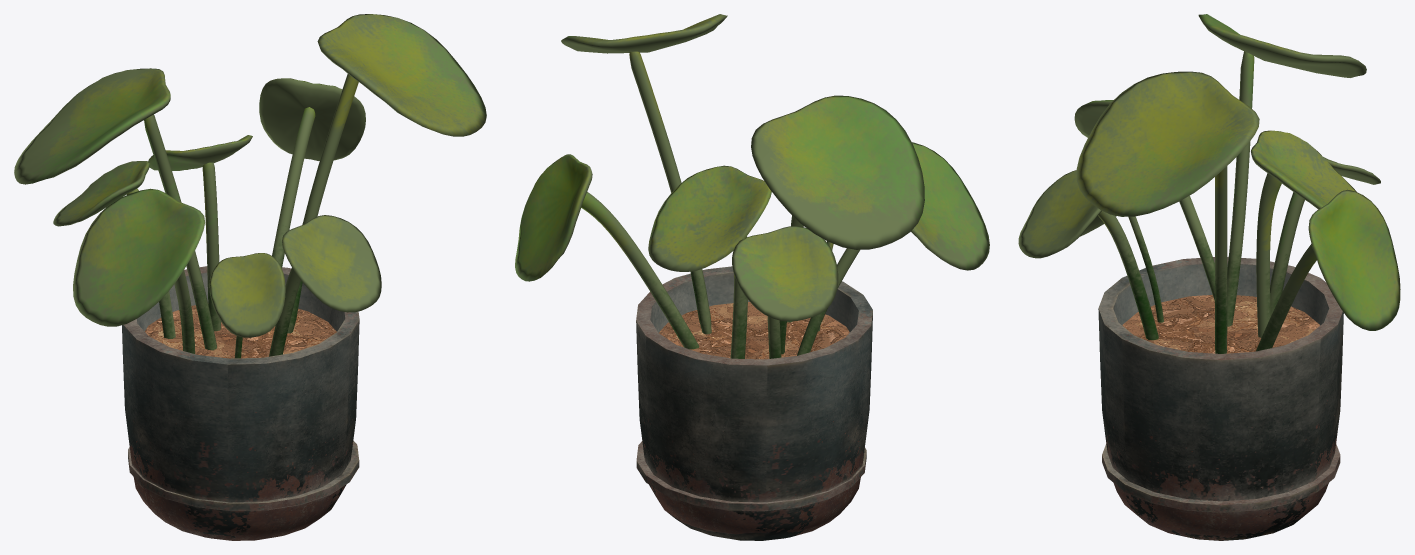
The model's file is moneyPlant.gltf.
3 views of the same model, side by side, from view 1: azimuth 30°, elevation 25°; view 2: azimuth 150°, elevation 25°; view 3: azimuth 270°, elevation 25° (orthographic). The views are drawn at different scales.
Visible parts, largest first — view 1: plant; view 2: plant; view 3: plant.
Boxes of the visible parts, x1,y1,x2,y2 form: plant: (14, 14, 486, 540); plant: (515, 14, 989, 540); plant: (1018, 14, 1400, 540).
Size of the model in its own units: 2.76 by 3.07 by 2.24.
3 materials, 3 textured.
